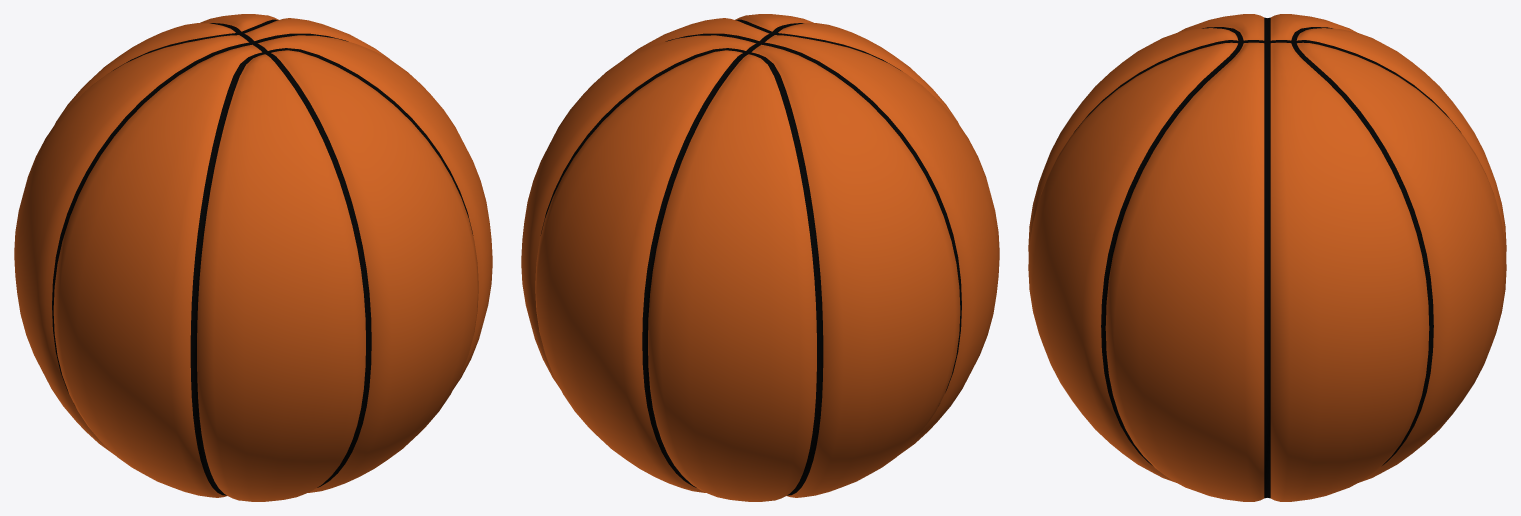
Rendered from basketball.glb.
3 renders of one model, left to right at view 1: azimuth 30°, elevation 25°; view 2: azimuth 150°, elevation 25°; view 3: azimuth 270°, elevation 25°, orthographic.
Visible parts, largest first — view 1: BasketBall; view 2: BasketBall; view 3: BasketBall.
Part boxes in pixels (box(x1,y1,x2,y2)): BasketBall: box(14, 14, 492, 501); BasketBall: box(521, 14, 999, 501); BasketBall: box(1028, 14, 1506, 501).
Bounding box in the file's own units: 0.4823 × 0.4896 × 0.4823.
